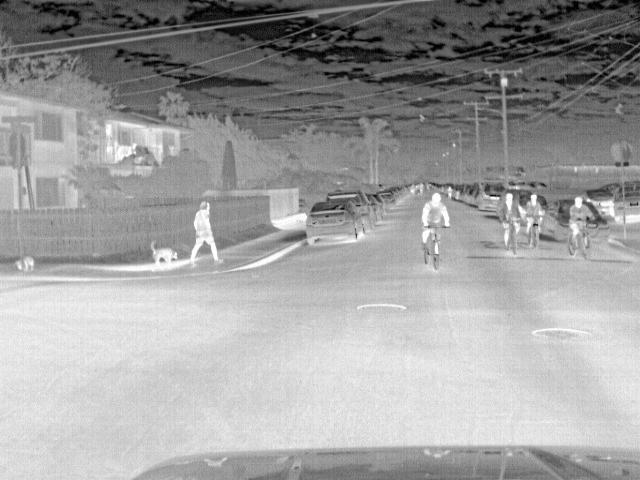car: (306, 204, 364, 248), (326, 193, 373, 234), (612, 182, 640, 218), (479, 179, 507, 211), (376, 191, 397, 209)
dog: (150, 241, 178, 272), (13, 255, 37, 276)
person: (418, 190, 452, 261), (187, 198, 221, 265), (501, 188, 524, 248), (523, 193, 547, 245), (570, 196, 594, 245)
